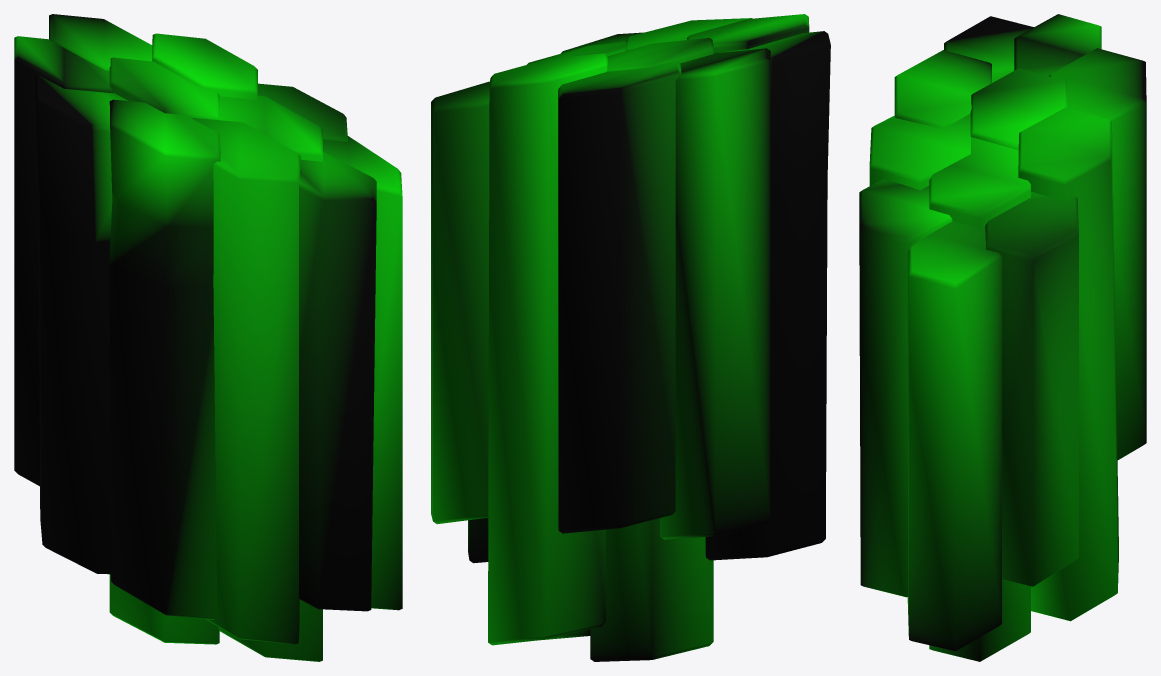
Rendered from SM_RockHexic_RockSlanted09.fbx.
3 views of the same model, side by side, from view 1: azimuth 30°, elevation 25°; view 2: azimuth 150°, elevation 25°; view 3: azimuth 270°, elevation 25° (orthographic). The views are drawn at different scales.
Visible parts, largest first — view 1: SM_RockHexic_RockSlanted09; view 2: SM_RockHexic_RockSlanted09; view 3: SM_RockHexic_RockSlanted09.
Boxes of the visible parts, x1,y1,x2,y2 form: SM_RockHexic_RockSlanted09: (14, 14, 402, 661); SM_RockHexic_RockSlanted09: (431, 14, 830, 661); SM_RockHexic_RockSlanted09: (859, 14, 1146, 661).
Size of the model in its own units: 1301 by 1065 by 2199.
